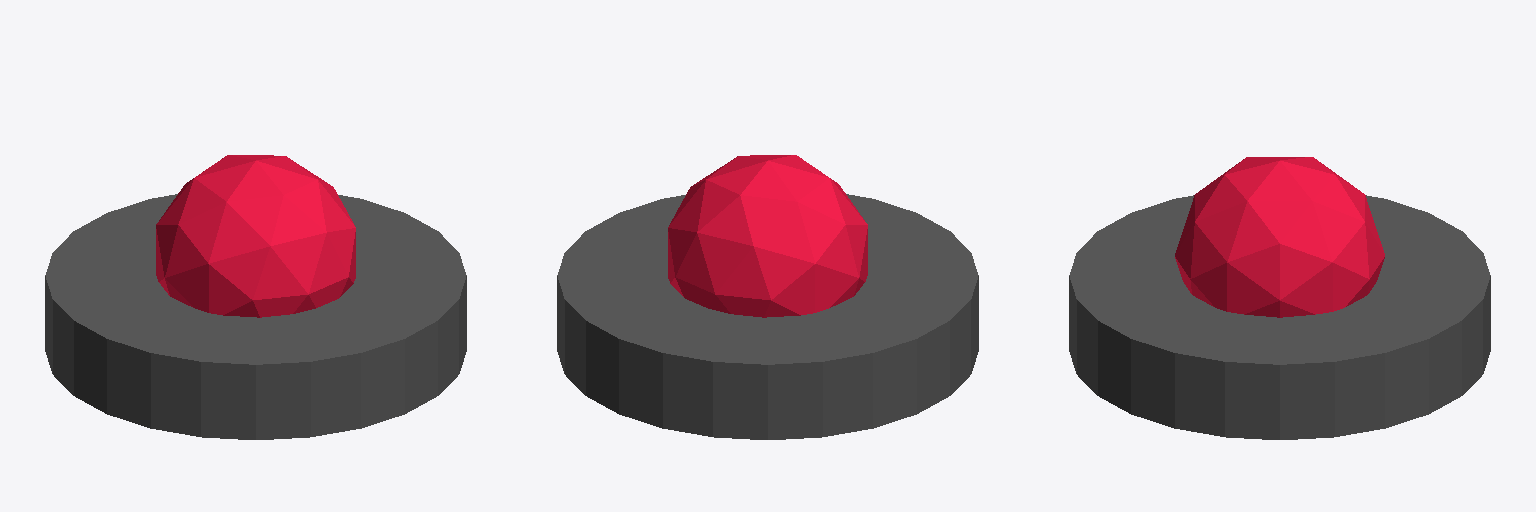
File: gems_ruby_2.obj
The picture shows the model from 3 angles: view 1: azimuth 30°, elevation 25°; view 2: azimuth 150°, elevation 25°; view 3: azimuth 270°, elevation 25°; orthographic projection.
Parts seen in each view (by area): view 1: mergedBlocks; view 2: mergedBlocks; view 3: mergedBlocks.
Boxes of the visible parts, x1=… form: mergedBlocks: x1=45, y1=155, x2=466, y2=439; mergedBlocks: x1=557, y1=155, x2=978, y2=439; mergedBlocks: x1=1069, y1=157, x2=1490, y2=439.
Bounding box in the file's own units: 1 × 0.5 × 1.